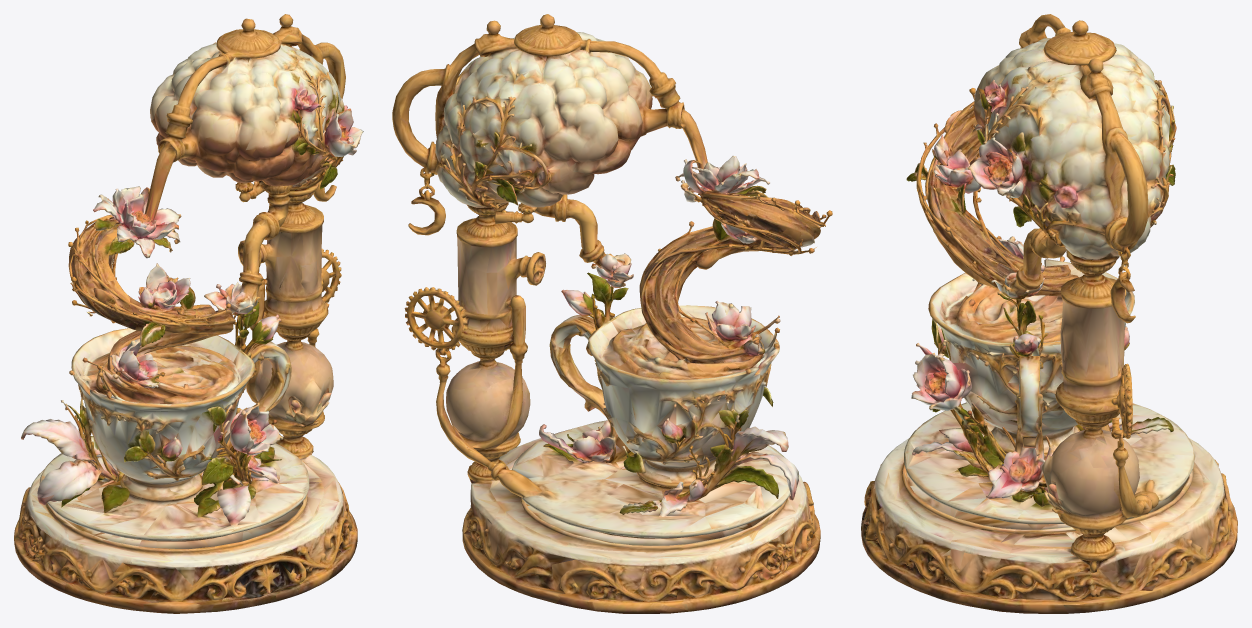
Rendered from Enchanted_Blossom_Tea.glb.
The picture shows the model from 3 angles, left to right: view 1: azimuth 30°, elevation 25°; view 2: azimuth 150°, elevation 25°; view 3: azimuth 270°, elevation 25°; orthographic projection. The views are drawn at different scales.
Visible parts, largest first — view 1: Enchanted_Blossom_Tea; view 2: Enchanted_Blossom_Tea; view 3: Enchanted_Blossom_Tea.
Boxes of the visible parts, x1,y1,x2,y2 form: Enchanted_Blossom_Tea: (14,14,363,613); Enchanted_Blossom_Tea: (392,14,832,613); Enchanted_Blossom_Tea: (861,14,1237,613).
Size of the model in its own units: 1.41 by 1.9 by 1.17.
Materials: 1 (1 with a texture image).
